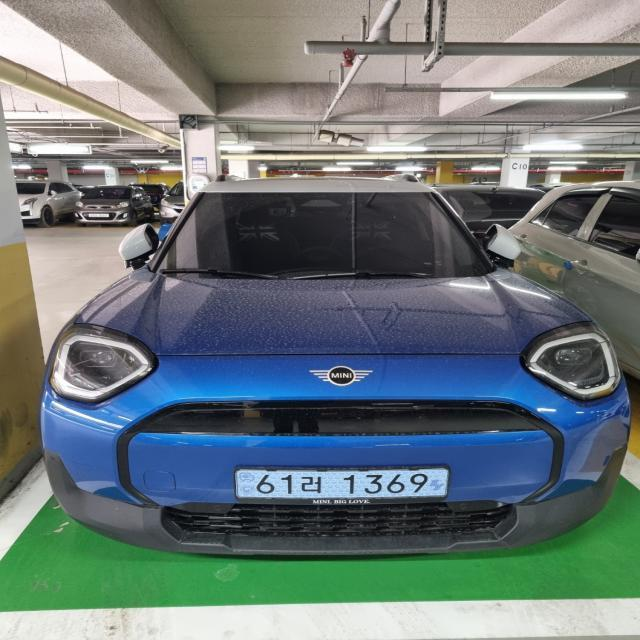car: (208, 460, 485, 517)
carev: (230, 468, 258, 504), (427, 464, 452, 503)
